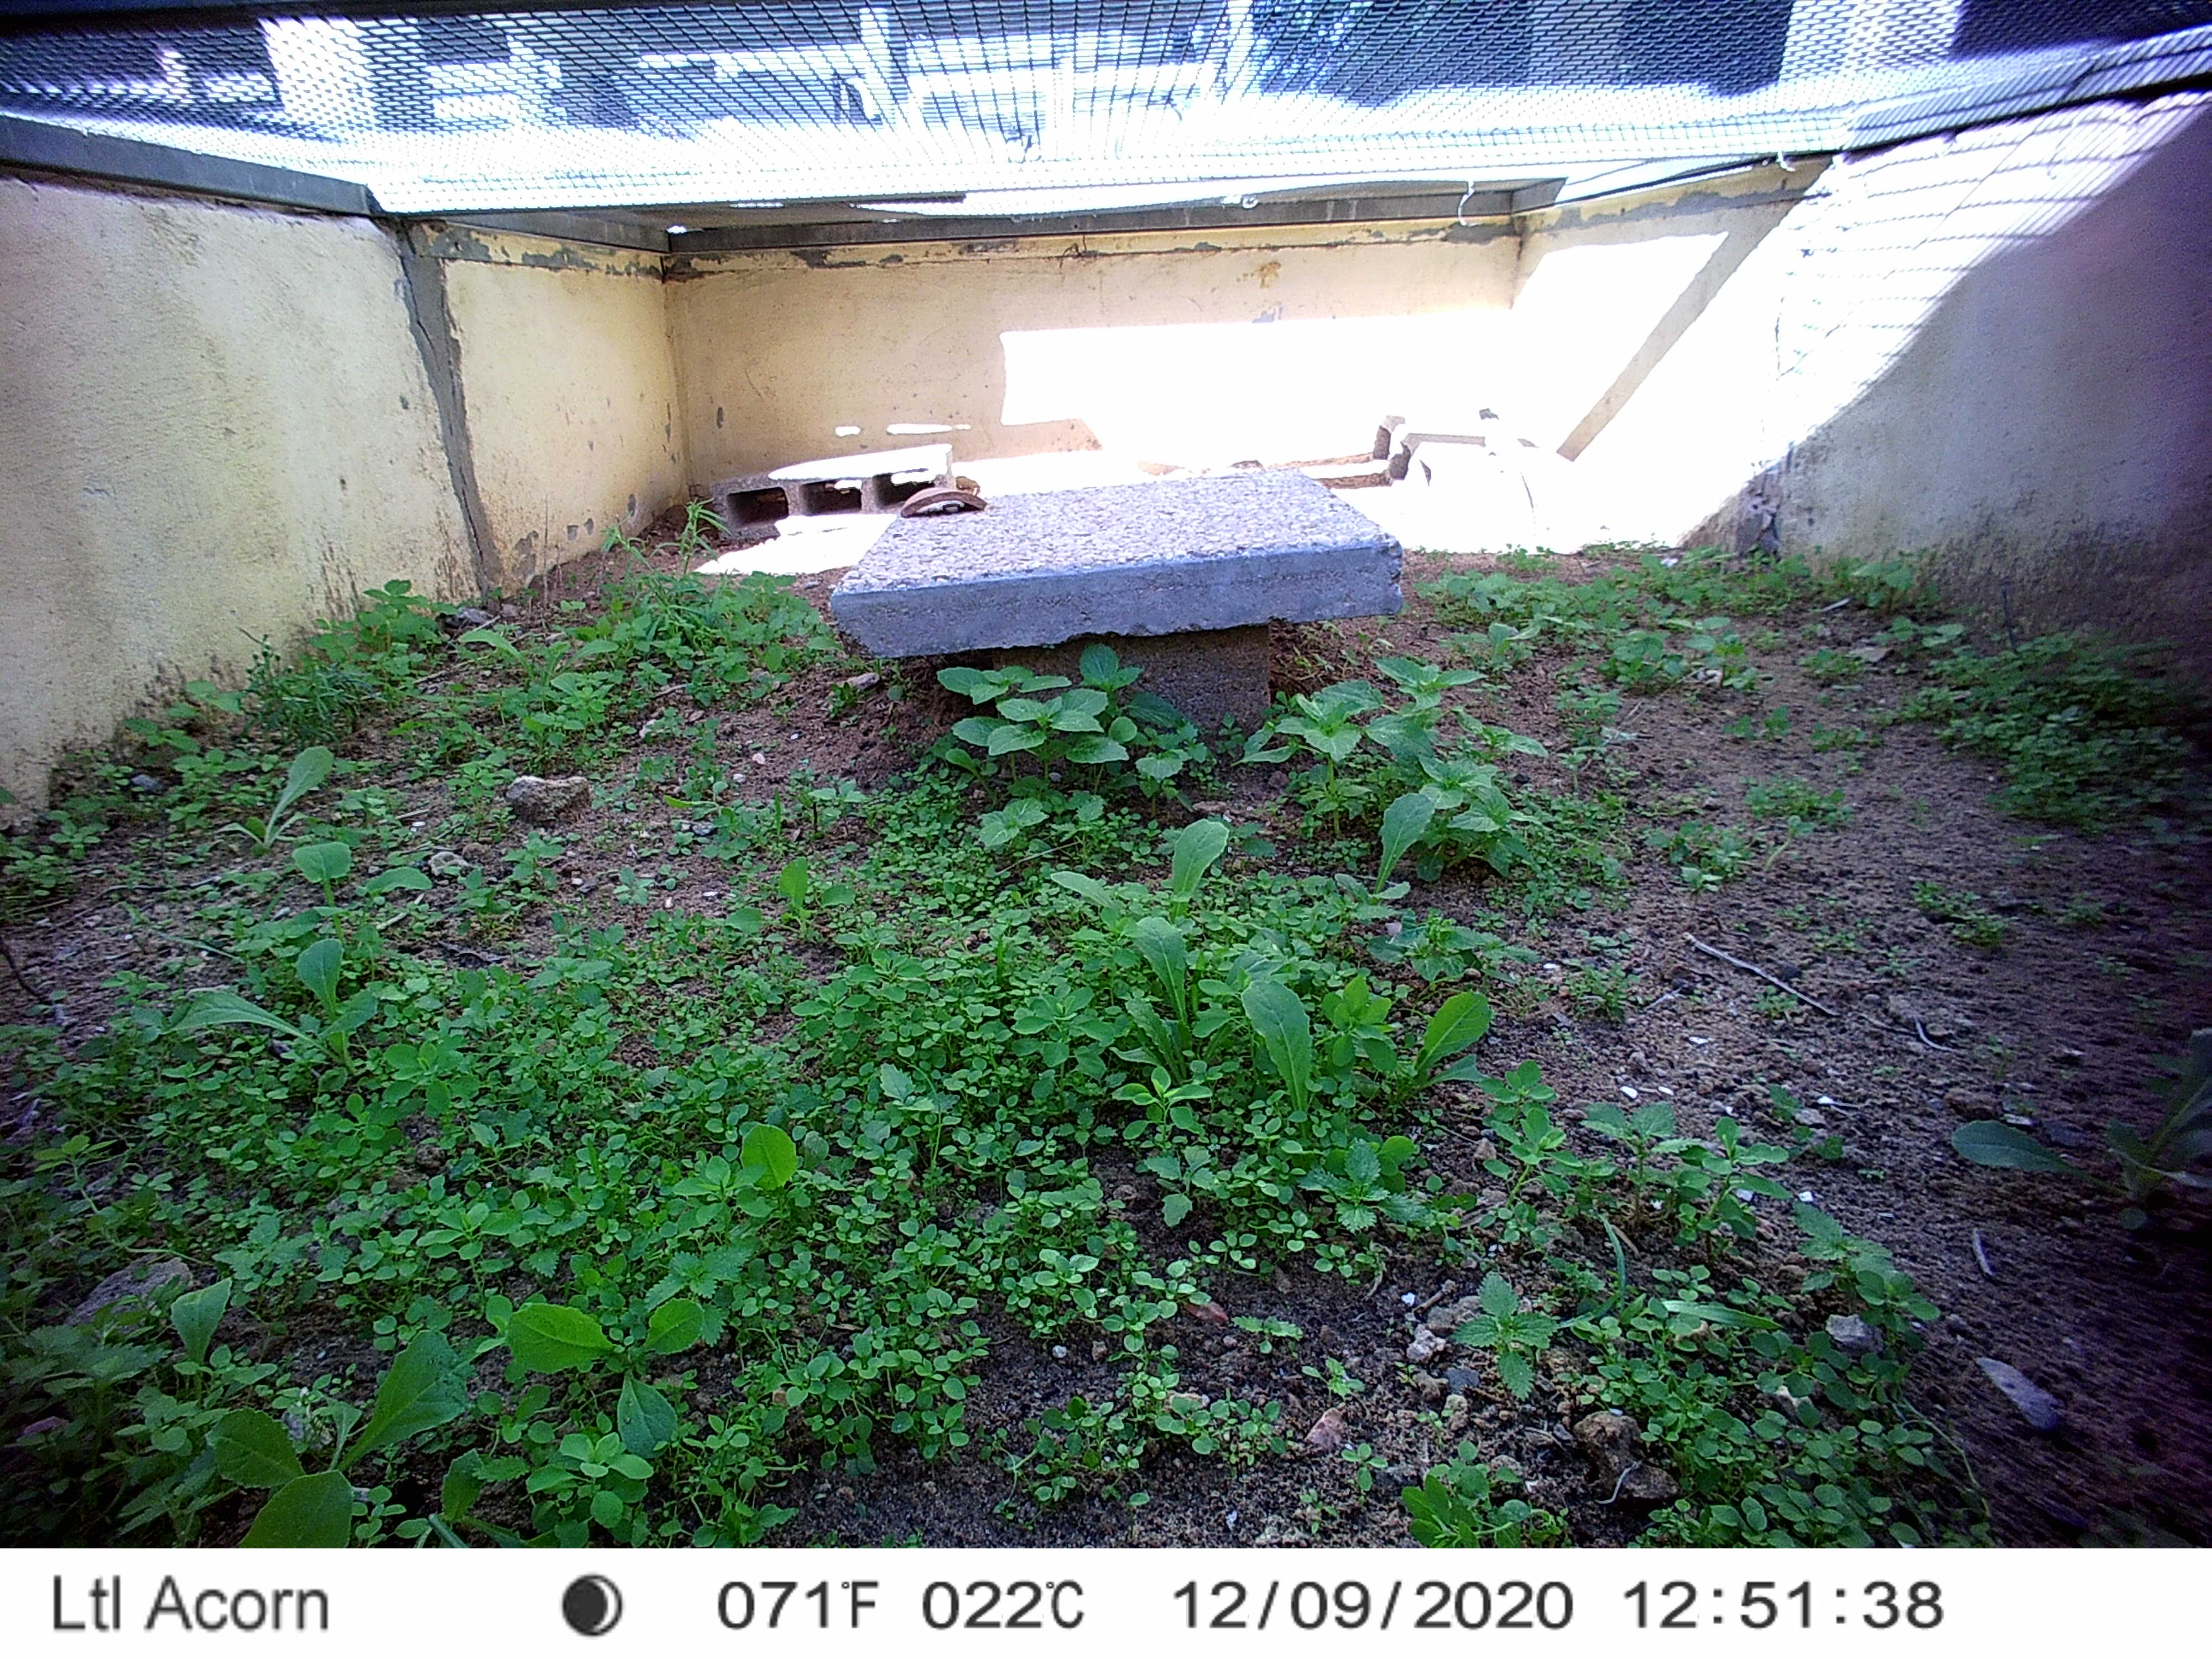lizard: (1474, 401, 1564, 547)
